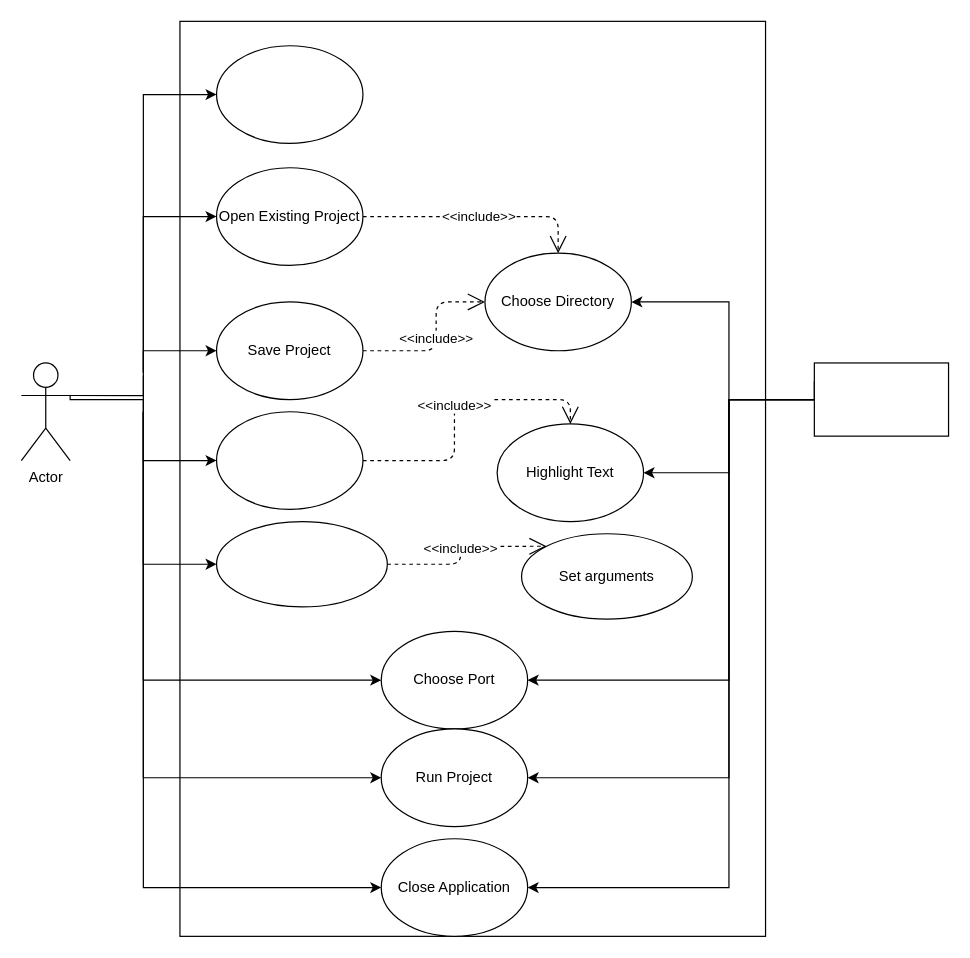
Image size: 970x958. Some labels were removed from this diagram. Each missing label, with the centre of its shape:
Create New File: the point at 289,94
Define a new function: the point at 301,563
System: the point at 881,399
Write Text: the point at 289,460
